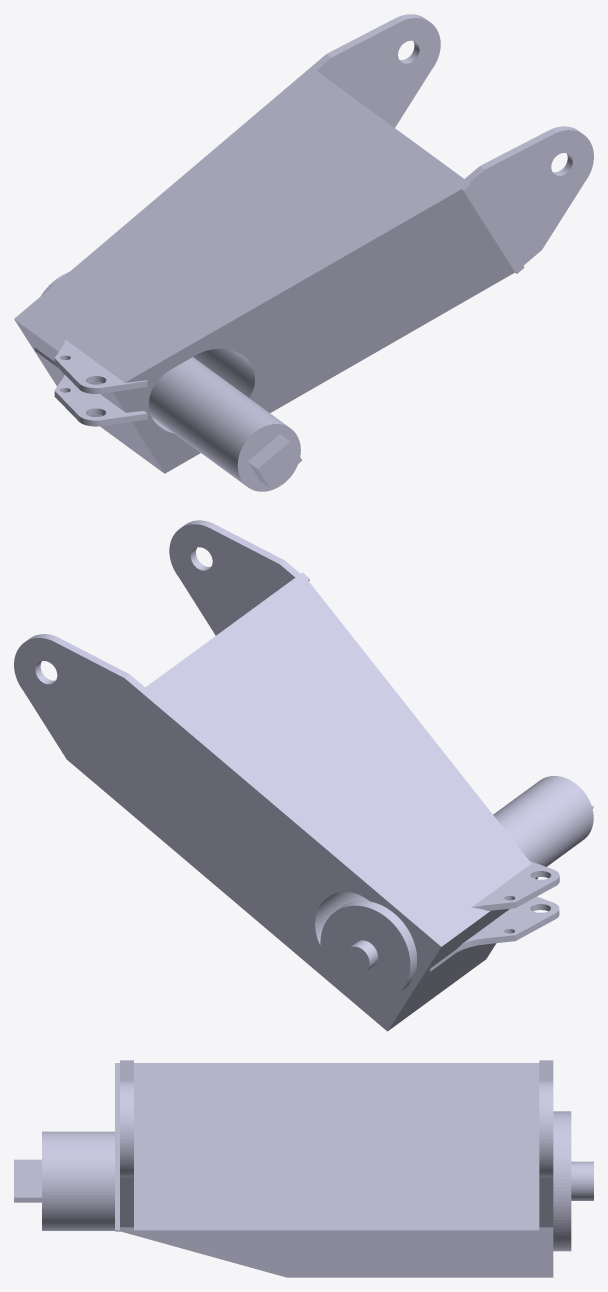
Rendered from BEAM_JACK_RIGHT_BACK.obj.
3 renders of one model, top to bottom at view 1: azimuth 30°, elevation 25°; view 2: azimuth 150°, elevation 25°; view 3: azimuth 270°, elevation 25°, orthographic. The views are drawn at different scales.
Parts seen in each view (by area): view 1: HSC_1500HLX_BEAM_JACK_1_000_1-1500HLX_BEAM_JACK_020 (Meshed); view 2: HSC_1500HLX_BEAM_JACK_1_000_1-1500HLX_BEAM_JACK_020 (Meshed); view 3: HSC_1500HLX_BEAM_JACK_1_000_1-1500HLX_BEAM_JACK_020 (Meshed).
Boxes of the visible parts, <box> form: HSC_1500HLX_BEAM_JACK_1_000_1-1500HLX_BEAM_JACK_020 (Meshed): <box>14,14,593,491</box>; HSC_1500HLX_BEAM_JACK_1_000_1-1500HLX_BEAM_JACK_020 (Meshed): <box>14,520,593,1031</box>; HSC_1500HLX_BEAM_JACK_1_000_1-1500HLX_BEAM_JACK_020 (Meshed): <box>14,1060,593,1277</box>.
Size of the model in its own units: 1256 by 822 by 1035.
